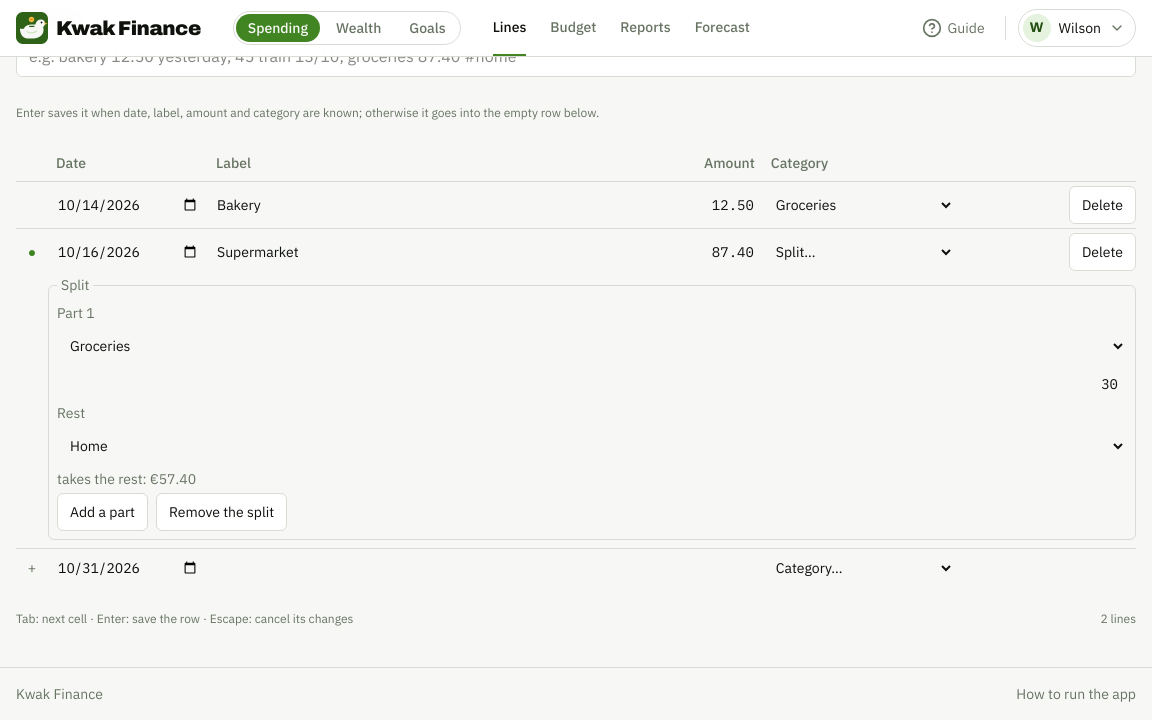
Test: the empty row is saved with Enter, as an outflow, and a new one opens on the same date
(page scrolled)
Clear the 3rd date field named "Date": {"x": 128, "y": 568} 48,553 -> 208,583
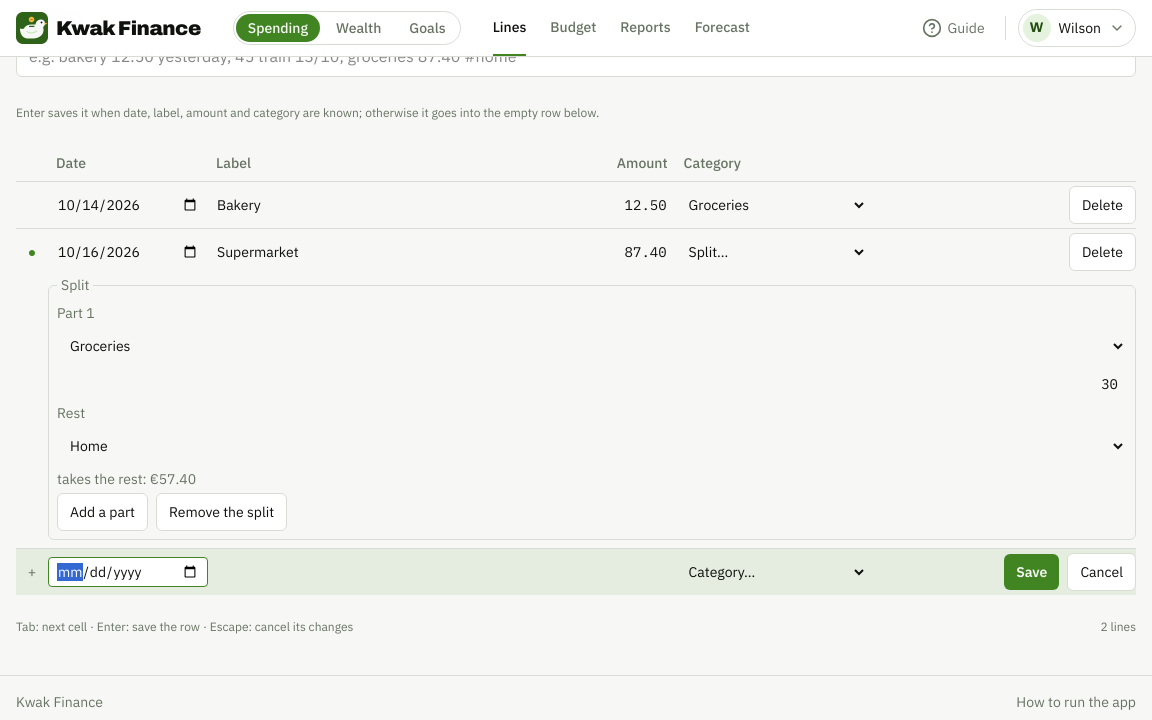
In the 3rd date field named "Date": {"x": 128, "y": 572} 48,557 -> 208,587, type "2026-10-20"
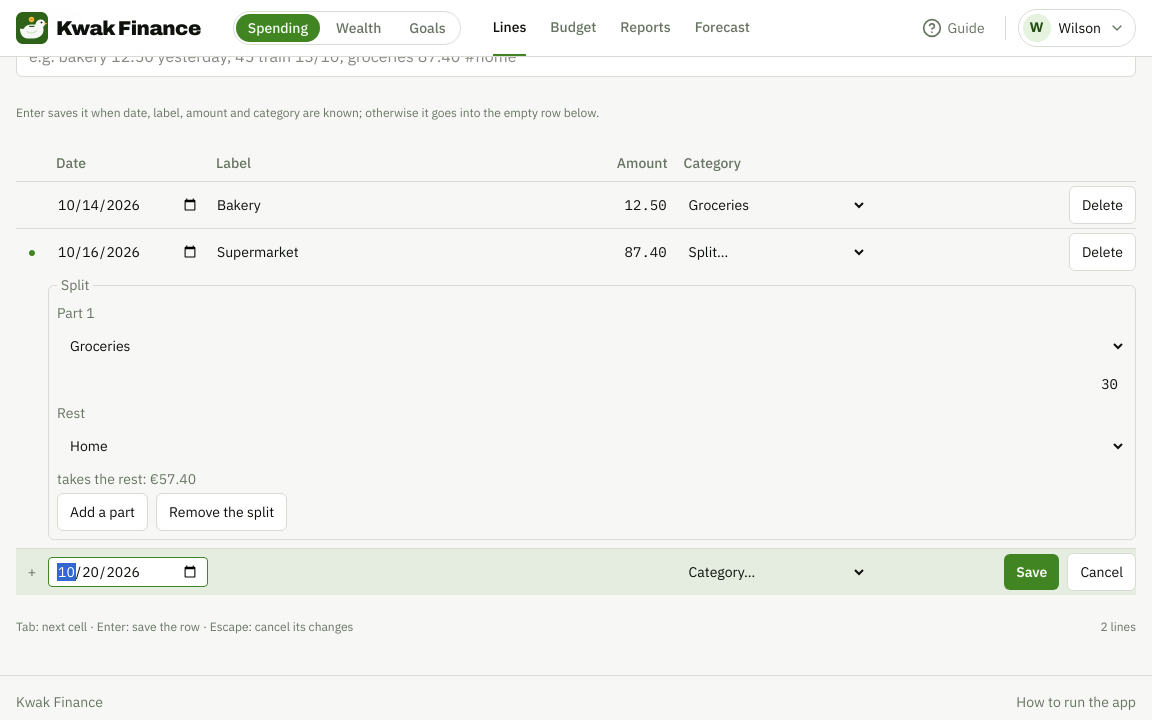
In the 3rd field named "Label": {"x": 378, "y": 572} 208,557 -> 548,587, type "Pharmacy"
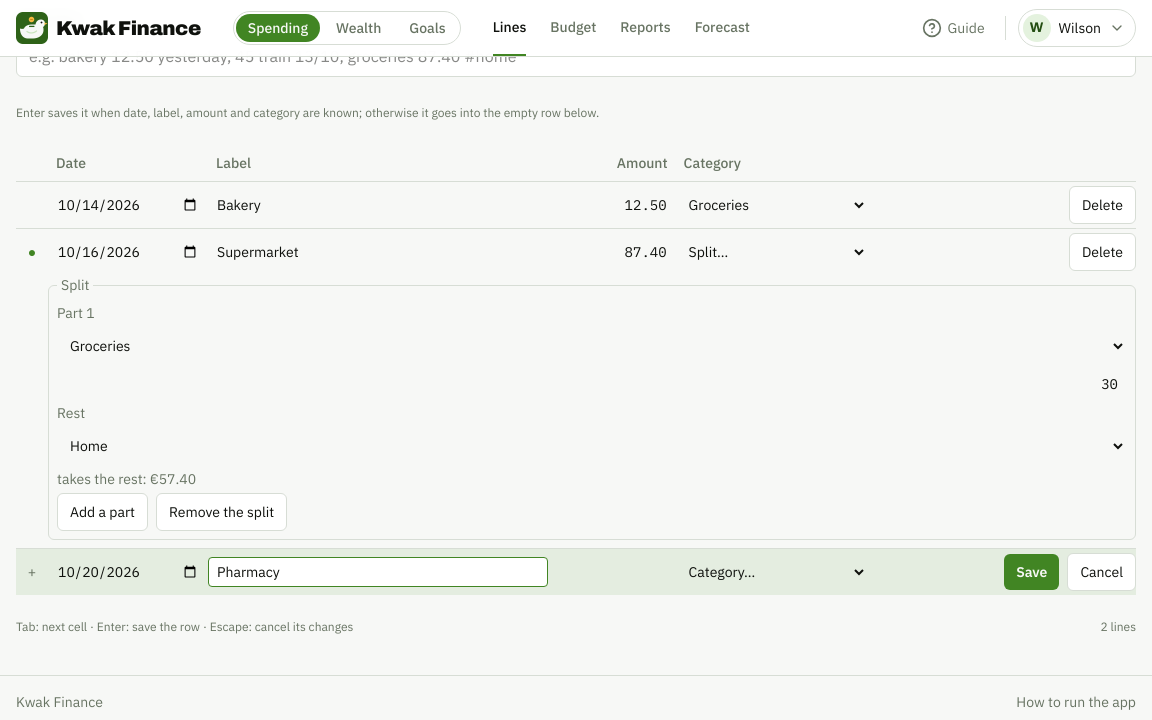
In the 3rd field named "Amount": {"x": 612, "y": 572} 548,557 -> 676,587, type "8,90"
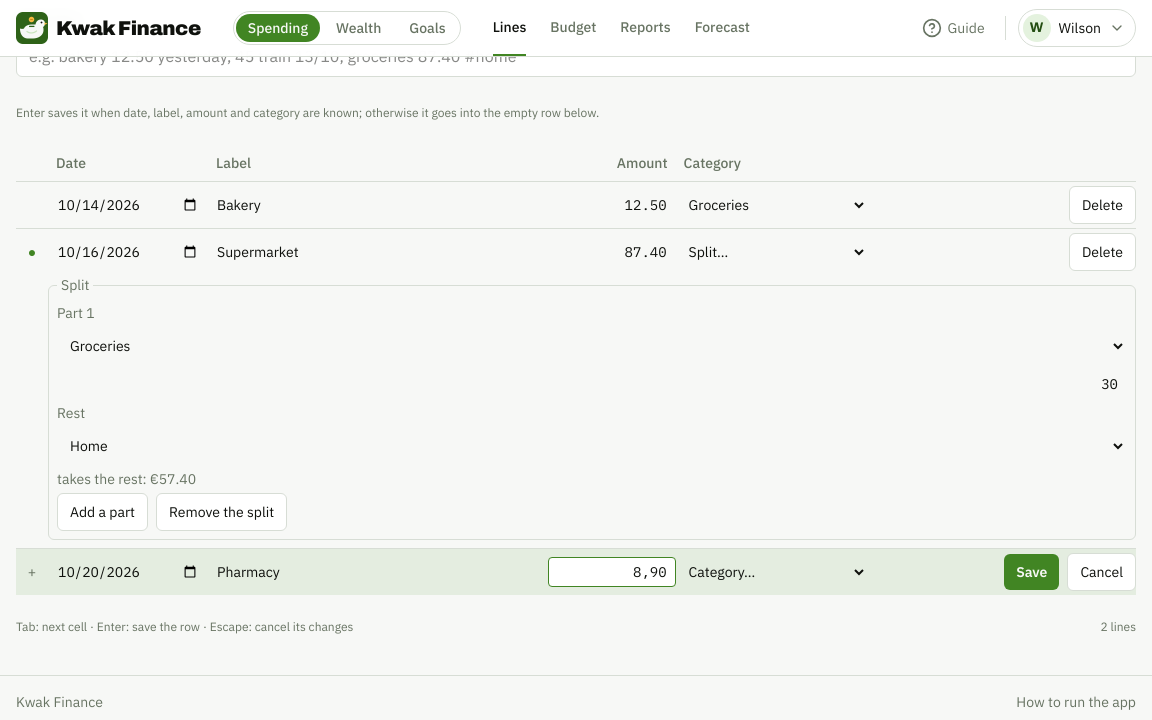
Select "Home" in the 3rd dropdown named "Category": {"x": 772, "y": 572} 676,557 -> 868,587
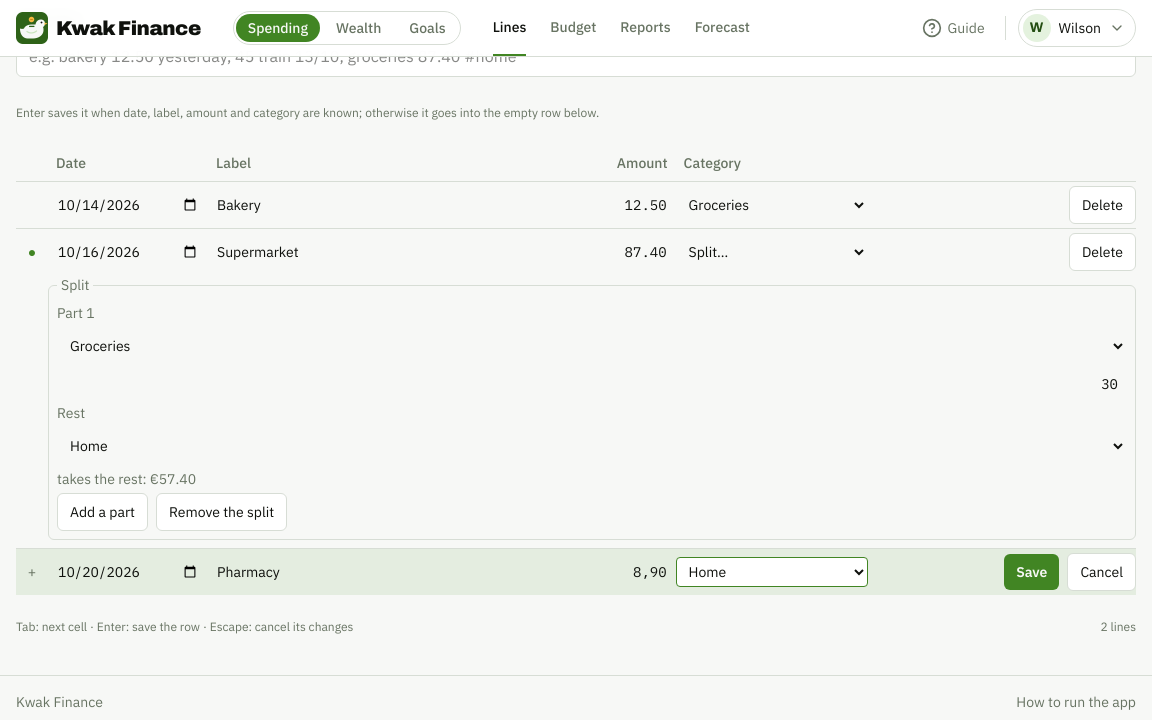
Press Enter
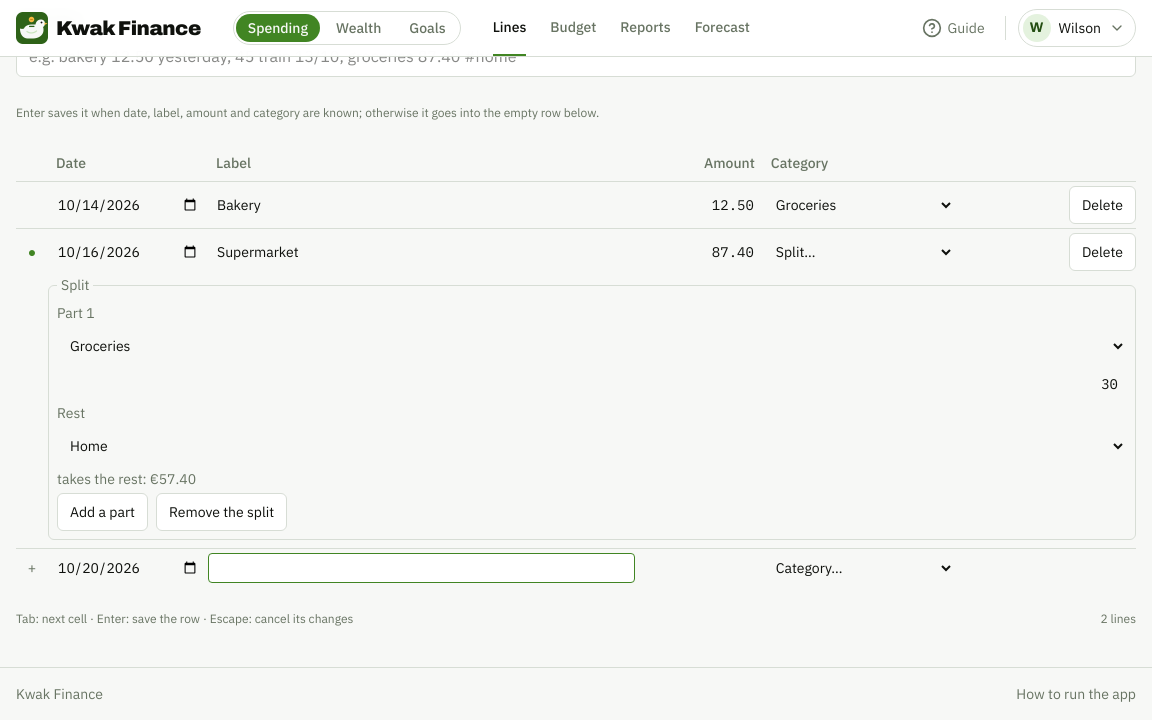
Expected: the 3rd date field named "Date" holds "2026-10-20", 48,553 -> 208,583
Expected: the 3rd field named "Label" is empty, 208,553 -> 635,583
